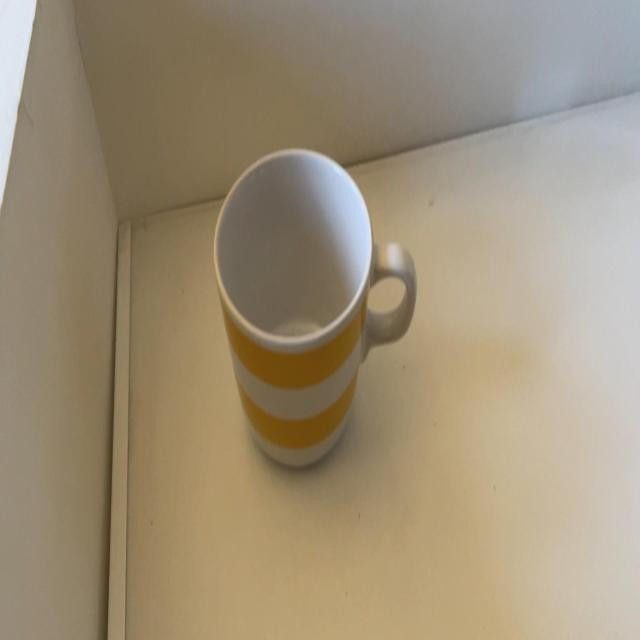cup: (212, 145, 418, 472)
